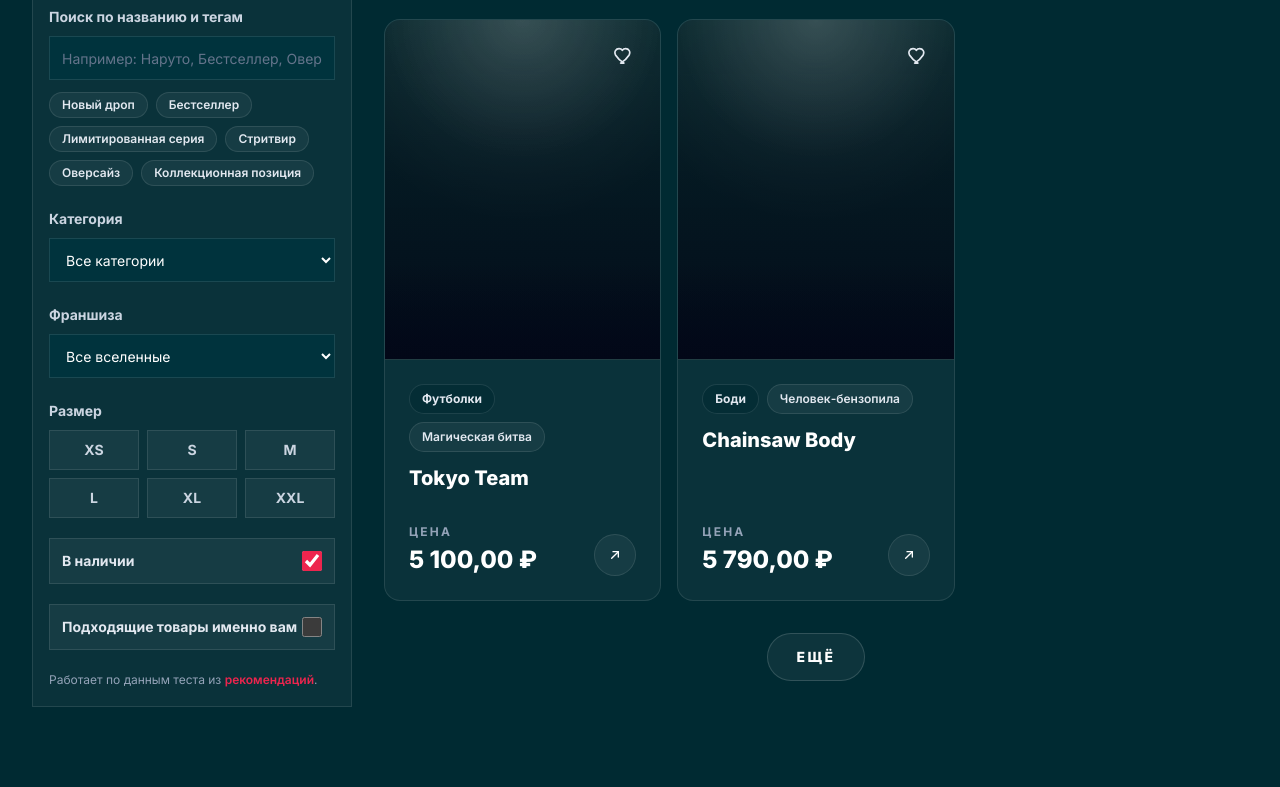
Scenario: CatalogPage › deduplicates products when the next page repeats an item
(page scrolled)
Expected: the link "Футболки Магическая битва Tokyo Team Цена 5 100,00 ₽" is shown, [384,19,661,601]
Click the button "Ещё" at {"x": 816, "y": 657}, box [767,633,864,681]
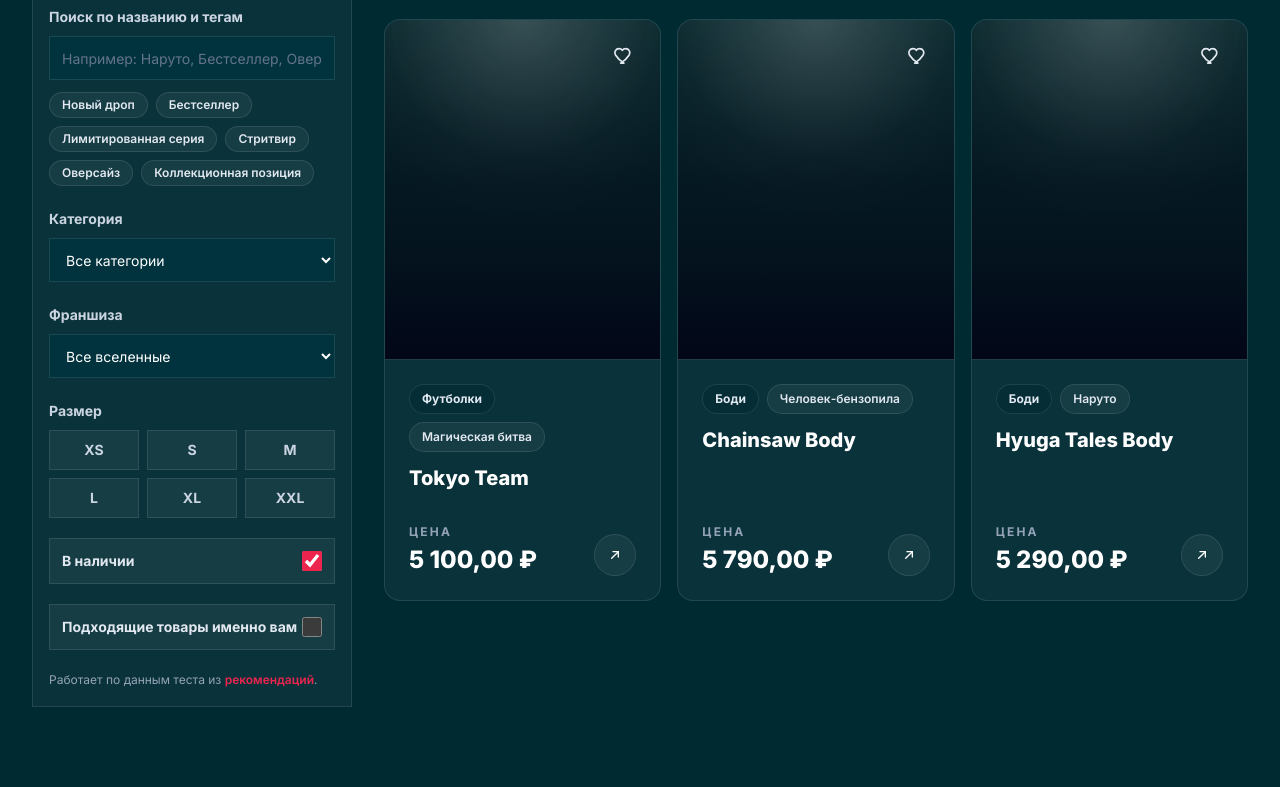
Expected: the link "Боди Наруто Hyuga Tales Body Цена 5 290,00 ₽" is shown, [971,19,1248,601]
Expected: the number of links "Боди Человек-бензопила Chainsaw Body Цена 5 790,00 ₽" is 1, [677,19,955,601]
